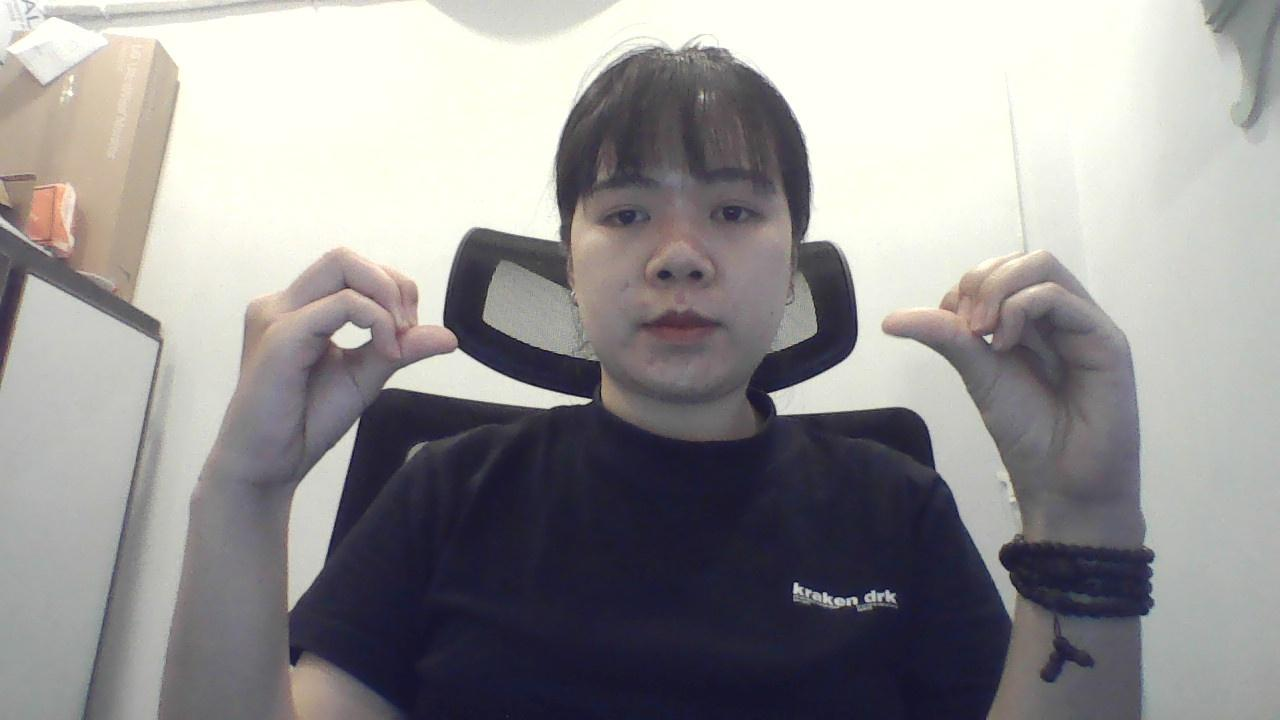S: (874, 214, 1195, 510), (196, 239, 460, 497)
